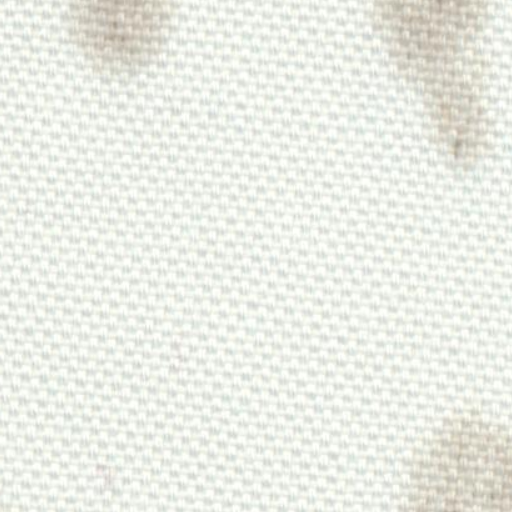WuZi: (356, 2, 500, 178), (385, 388, 505, 507), (56, 2, 188, 94)
